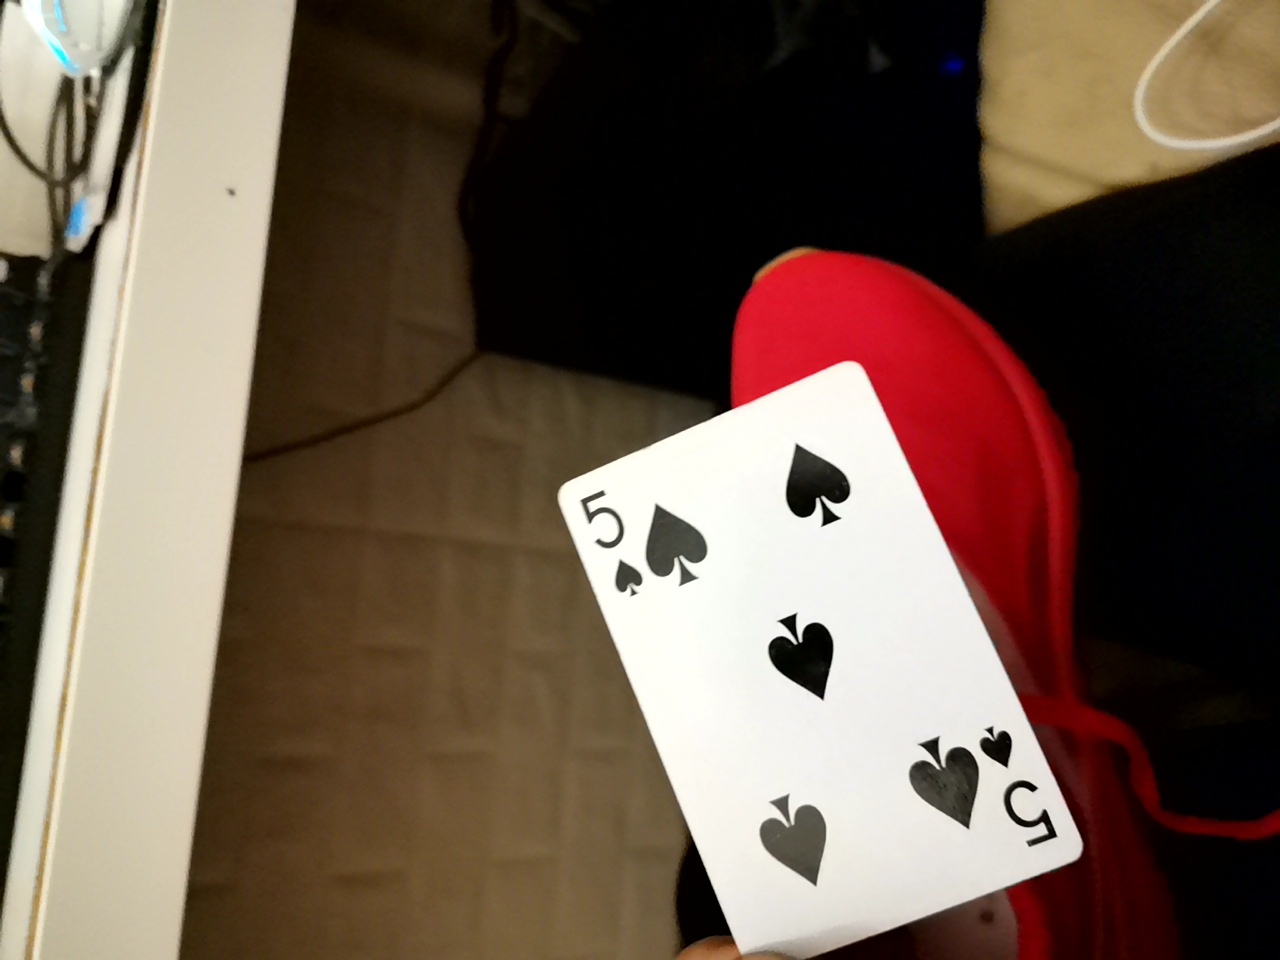ht 5: (497, 361, 1058, 958)
